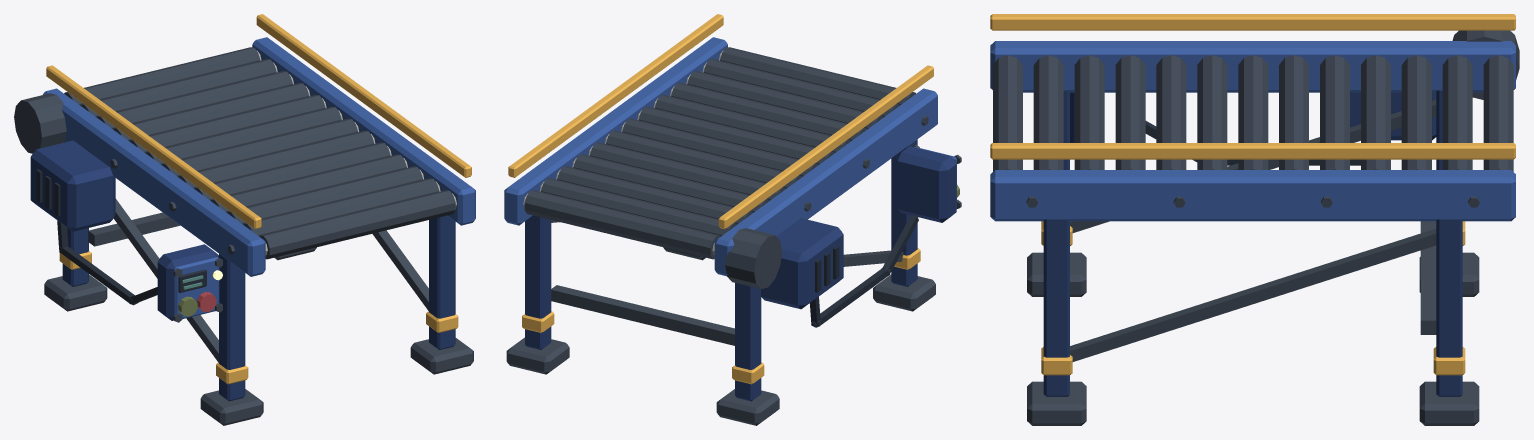
File: mach_conveyor.glb
3 views of the same model, side by side, from view 1: azimuth 30°, elevation 25°; view 2: azimuth 150°, elevation 25°; view 3: azimuth 270°, elevation 25° (orthographic). The views are drawn at different scales.
Visible parts, largest first — view 1: mach_conveyor, mach_conveyor__bed_rail_-1, mach_conveyor__motor_cover, mach_conveyor__roller_00_rubber, mach_conveyor__guard_rail_-1, mach_conveyor__support_-1_0_stem, mach_conveyor__support_1_0_stem, mach_conveyor__roller_01_rubber, mach_conveyor__roller_02_rubber, mach_conveyor__roller_06_rubber, mach_conveyor__roller_08_rubber, mach_conveyor__roller_03_rubber (+18 smaller); view 2: mach_conveyor, mach_conveyor__bed_rail_-1, mach_conveyor__roller_12_rubber, mach_conveyor__motor_cover, mach_conveyor__control_housing, mach_conveyor__guard_rail_-1, mach_conveyor__cross_brace, mach_conveyor__support_1_1_stem, mach_conveyor__roller_11_rubber, mach_conveyor__roller_01_rubber, mach_conveyor__roller_07_rubber, mach_conveyor__roller_06_rubber (+17 smaller); view 3: mach_conveyor, mach_conveyor__bed_rail_-1, mach_conveyor__guard_rail_-1, mach_conveyor__support_1_1_stem, mach_conveyor__support_1_0_stem, mach_conveyor__roller_12_rubber, mach_conveyor__roller_01_rubber, mach_conveyor__roller_02_rubber, mach_conveyor__roller_03_rubber, mach_conveyor__roller_04_rubber, mach_conveyor__roller_05_rubber, mach_conveyor__roller_06_rubber (+16 smaller).
Boxes of the visible parts, box(x1,y1,x2,y2) form: mach_conveyor: box(36, 14, 475, 322); mach_conveyor__bed_rail_-1: box(43, 88, 265, 276); mach_conveyor__motor_cover: box(30, 140, 115, 231); mach_conveyor__roller_00_rubber: box(259, 190, 455, 259); mach_conveyor__guard_rail_-1: box(46, 65, 261, 229); mach_conveyor__support_-1_0_stem: box(219, 253, 245, 401); mach_conveyor__support_1_0_stem: box(429, 215, 455, 349); mach_conveyor__roller_01_rubber: box(243, 178, 439, 236); mach_conveyor__roller_02_rubber: box(227, 166, 423, 224); mach_conveyor__roller_06_rubber: box(162, 118, 357, 176); mach_conveyor__roller_08_rubber: box(129, 95, 325, 152); mach_conveyor__roller_03_rubber: box(210, 154, 406, 212); mach_conveyor: box(504, 14, 961, 327); mach_conveyor__bed_rail_-1: box(714, 88, 937, 276); mach_conveyor__roller_12_rubber: box(524, 190, 720, 259); mach_conveyor__motor_cover: box(761, 218, 843, 309); mach_conveyor__control_housing: box(895, 146, 956, 222); mach_conveyor__guard_rail_-1: box(718, 65, 933, 229); mach_conveyor__cross_brace: box(551, 285, 734, 345); mach_conveyor__support_1_1_stem: box(525, 215, 551, 349); mach_conveyor__roller_11_rubber: box(541, 178, 736, 236); mach_conveyor__roller_01_rubber: box(703, 59, 899, 116); mach_conveyor__roller_07_rubber: box(606, 130, 801, 188); mach_conveyor__roller_06_rubber: box(622, 118, 818, 176); mach_conveyor: box(990, 121, 1515, 361); mach_conveyor__bed_rail_-1: box(990, 41, 1515, 92); mach_conveyor__guard_rail_-1: box(990, 14, 1515, 30); mach_conveyor__support_1_1_stem: box(1436, 219, 1462, 396); mach_conveyor__support_1_0_stem: box(1043, 219, 1069, 396); mach_conveyor__roller_12_rubber: box(1483, 55, 1513, 171); mach_conveyor__roller_01_rubber: box(1033, 55, 1063, 169); mach_conveyor__roller_02_rubber: box(1074, 55, 1104, 169); mach_conveyor__roller_03_rubber: box(1115, 55, 1145, 169); mach_conveyor__roller_04_rubber: box(1156, 55, 1186, 169); mach_conveyor__roller_05_rubber: box(1197, 55, 1227, 169); mach_conveyor__roller_06_rubber: box(1238, 55, 1268, 169).
Bounding box in the file's own units: 1.2 × 0.8515 × 1.51.
